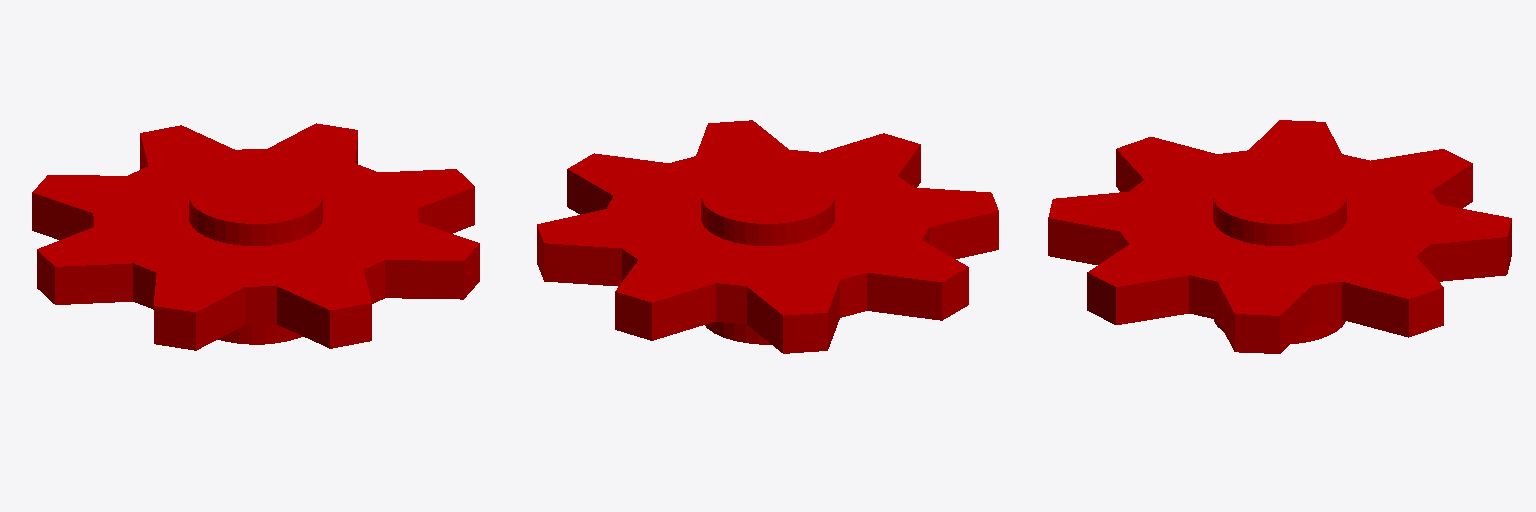
File: Crank.obj
3 renders of one model, left to right at view 1: azimuth 30°, elevation 25°; view 2: azimuth 150°, elevation 25°; view 3: azimuth 270°, elevation 25°, orthographic.
Parts seen in each view (by area): view 1: Cylinder; view 2: Cylinder; view 3: Cylinder.
Part boxes in pixels (bbox=[...]): Cylinder: bbox=[32, 123, 479, 350]; Cylinder: bbox=[537, 120, 998, 353]; Cylinder: bbox=[1048, 120, 1511, 353].
Bounding box in the file's own units: 2 × 0.5747 × 2.